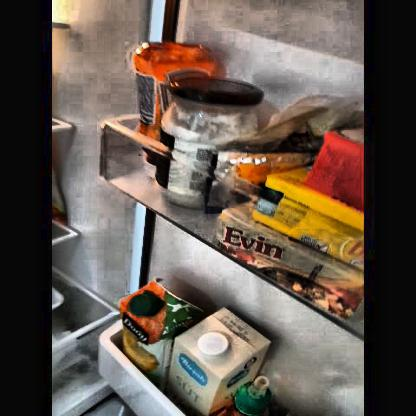butter: (236, 180, 367, 301)
milk: (171, 314, 247, 411)
